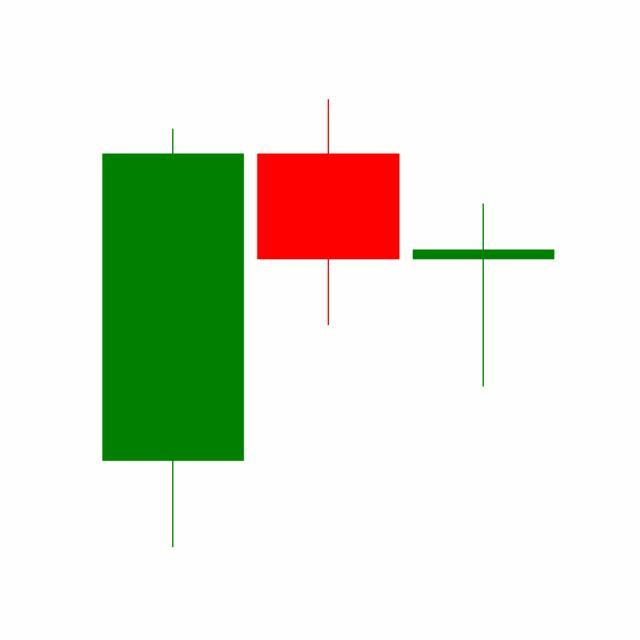Hammer: (406, 201, 562, 389)
